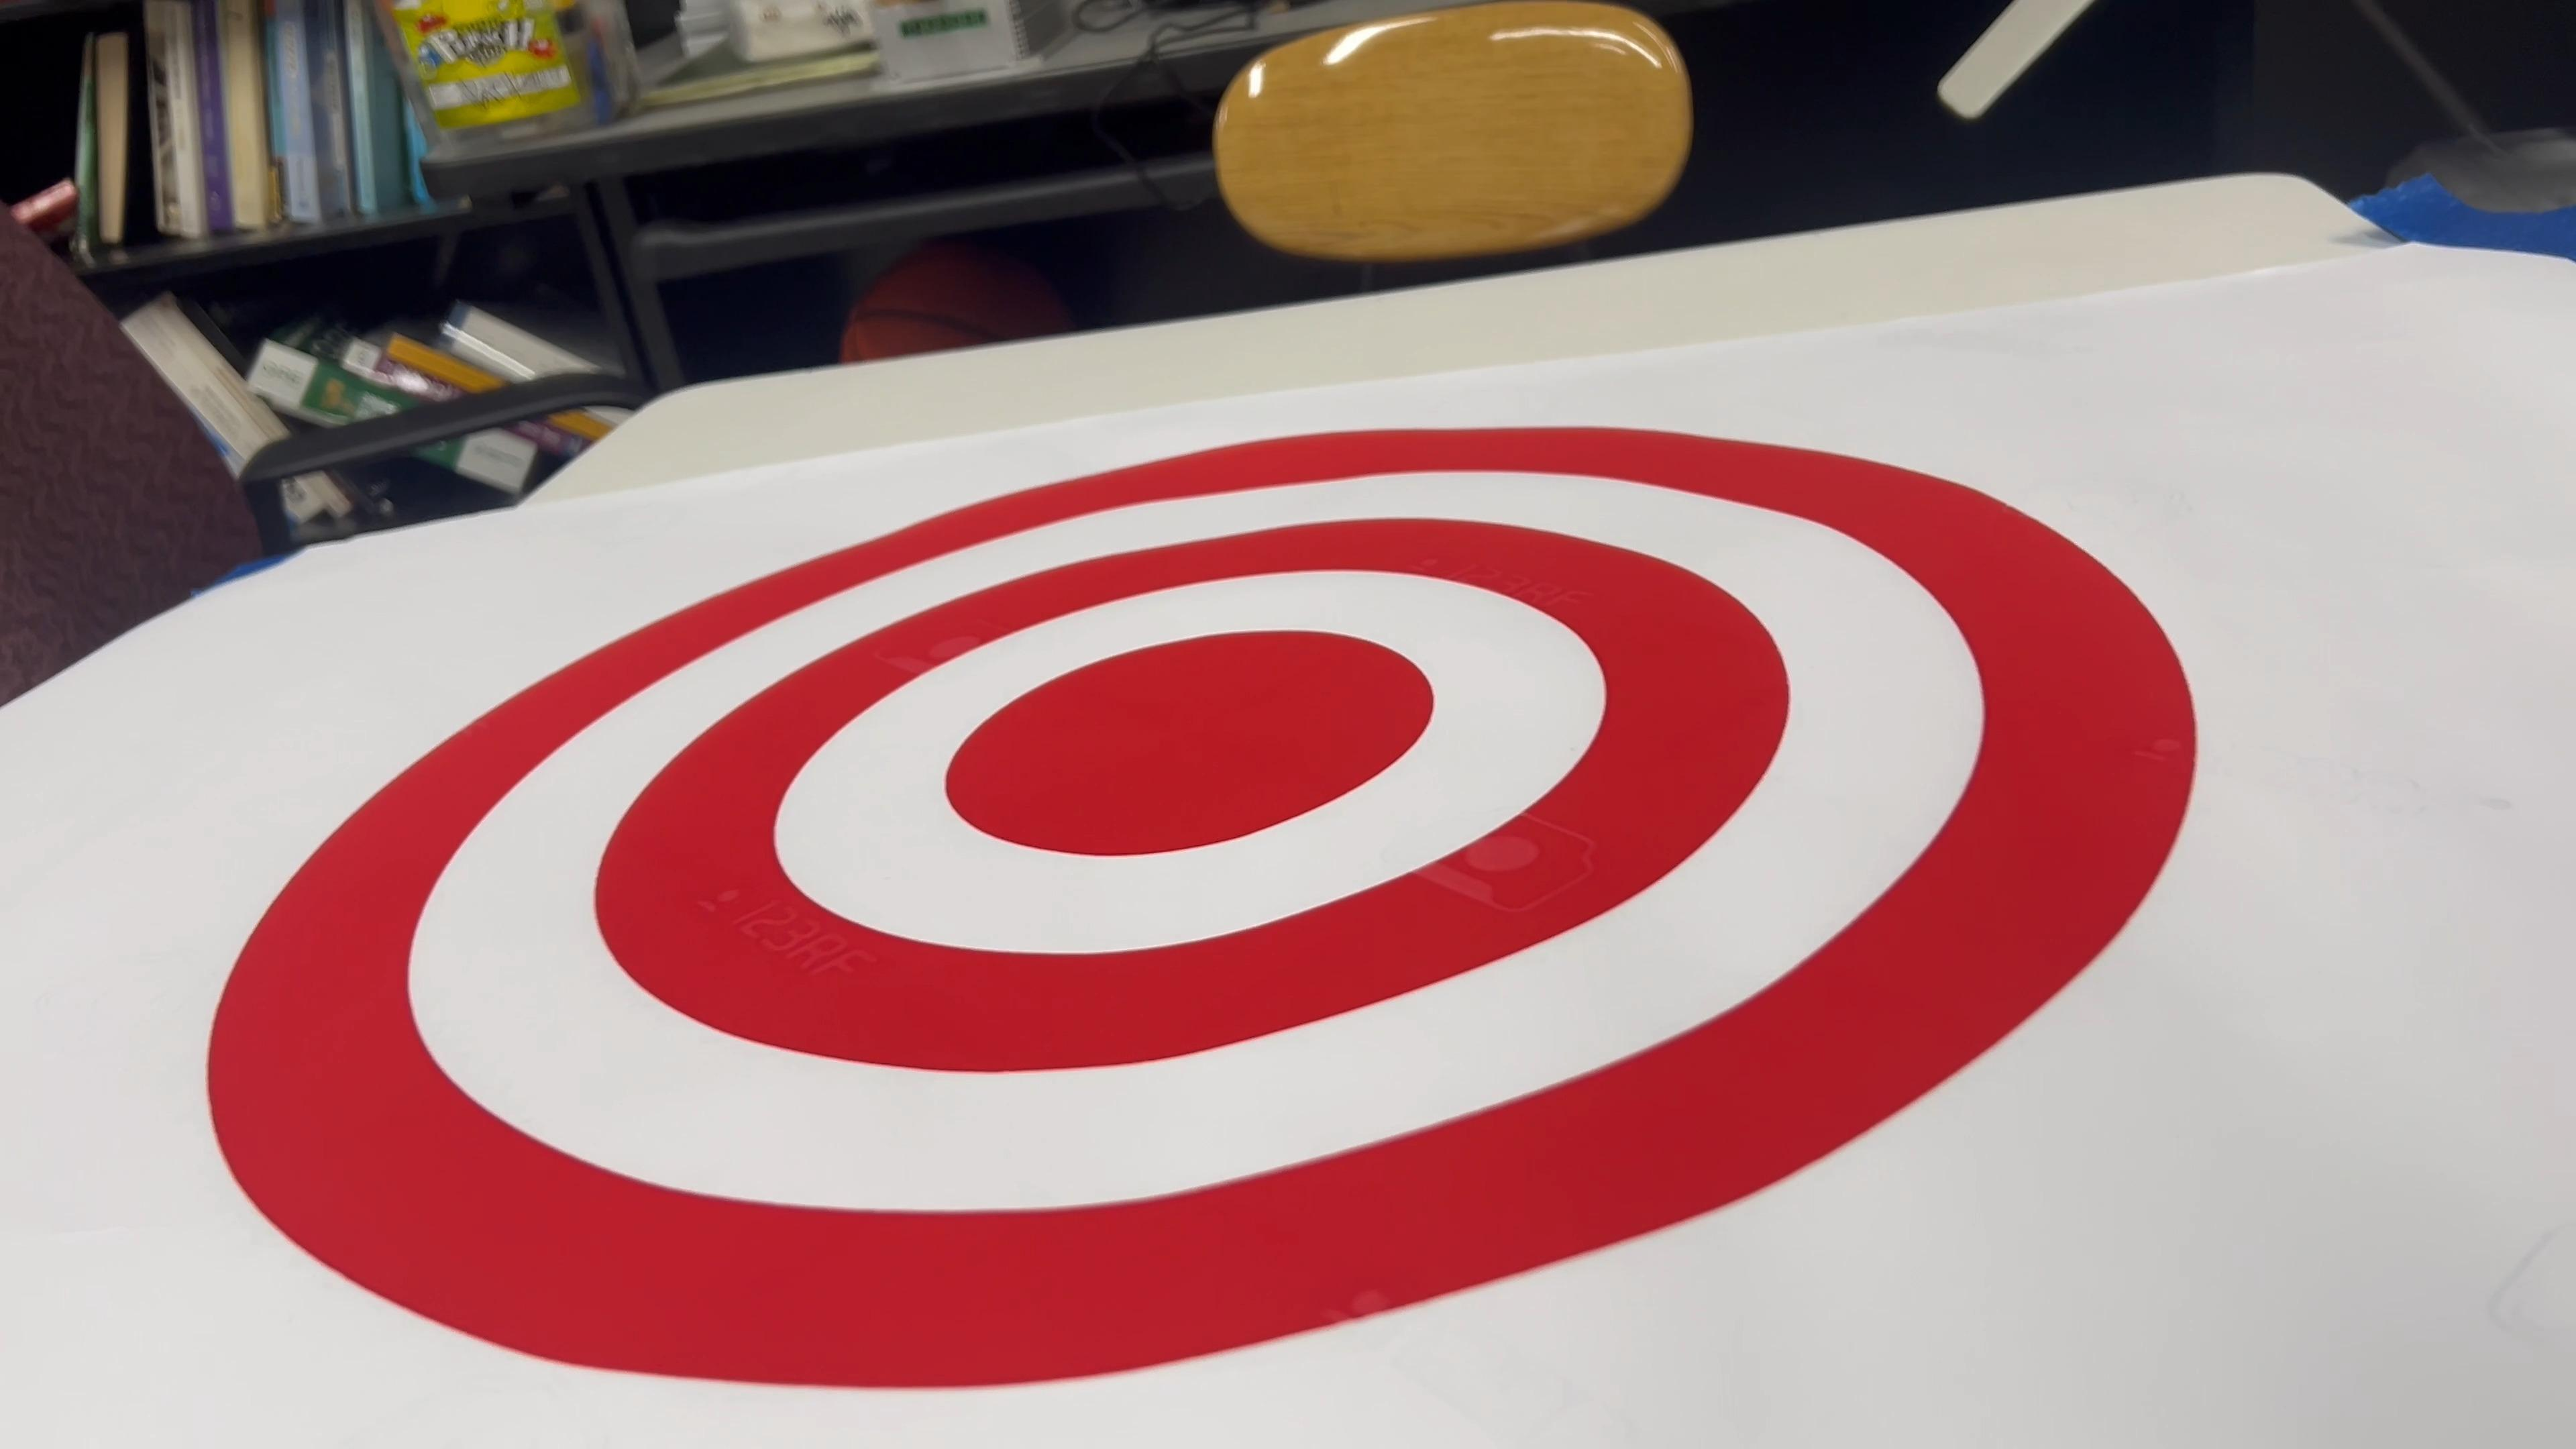target_red: (175, 403, 2227, 1449)
